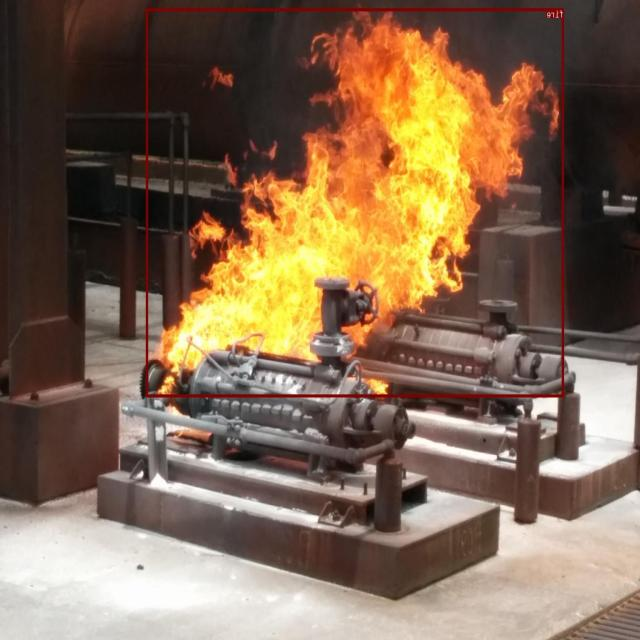fire: (146, 8, 564, 396)
